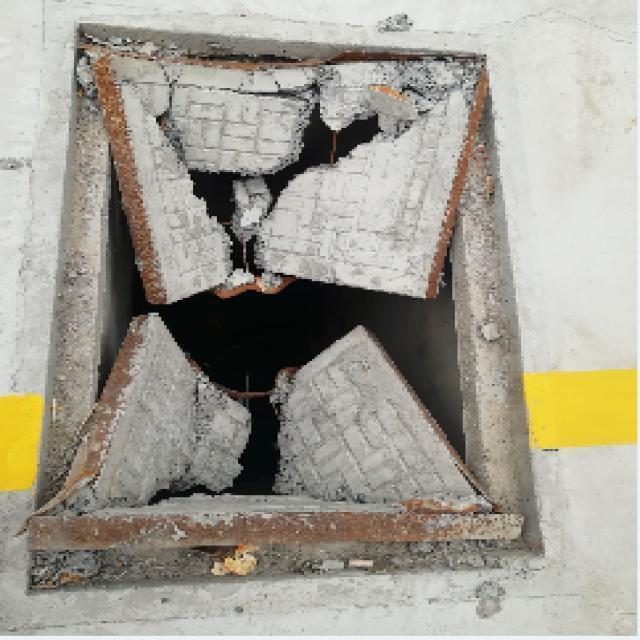manhole: (29, 29, 540, 589)
